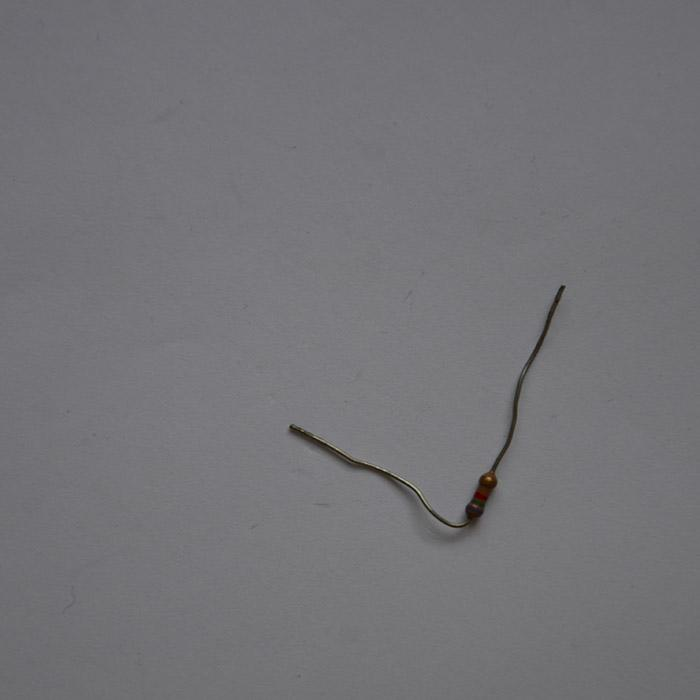resistor: (465, 470, 497, 519)
